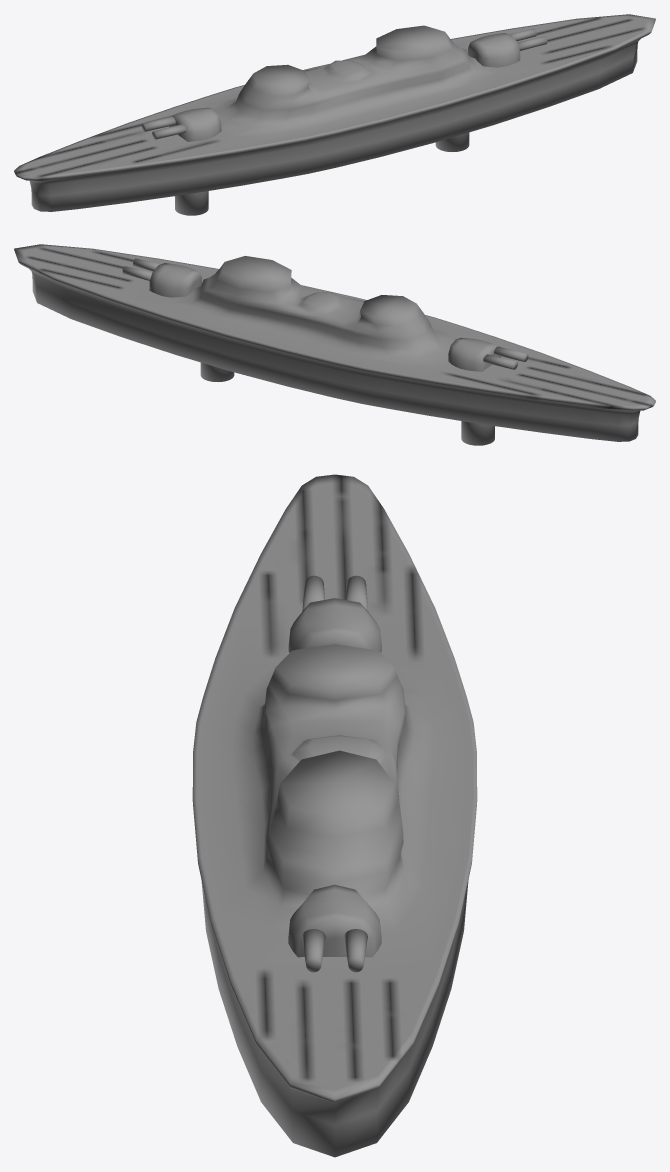
The model's file is Battleship_Battleship.fbx.
3 renders of one model, top to bottom at view 1: azimuth 30°, elevation 25°; view 2: azimuth 150°, elevation 25°; view 3: azimuth 270°, elevation 25°, orthographic. The views are drawn at different scales.
Parts seen in each view (by area): view 1: Battleship; view 2: Battleship; view 3: Battleship.
Boxes of the visible parts, bbox=[...] form: Battleship: bbox=[14, 14, 655, 215]; Battleship: bbox=[14, 244, 655, 445]; Battleship: bbox=[192, 474, 477, 1157].
Bounding box in the file's own units: 0.0605 × 0.0104 × 0.0117.
